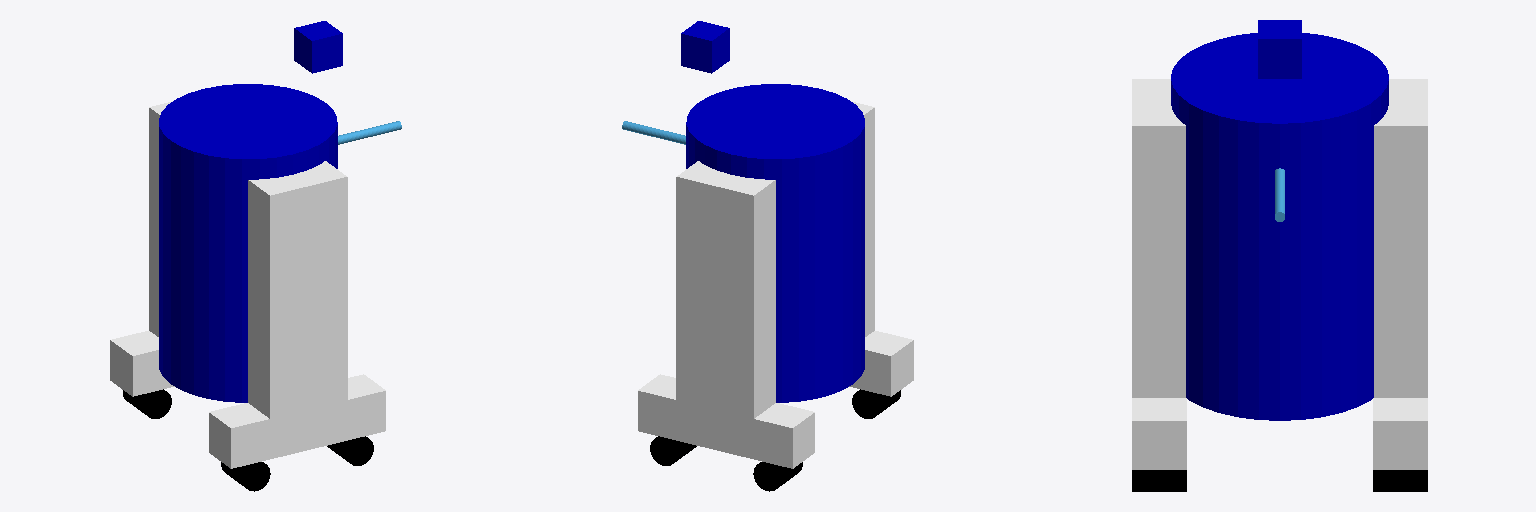
robot.urdf — withcolors:
<?xml version="1.0"?>
<robot name="withcolors">

  <link name="base_link">
    <visual>
      <geometry>
        <cylinder length="0.6" radius="0.2"/>
      </geometry>
      <material name="blue"/>
    </visual>
  </link>

  <link name="right_leg">
    <visual>
      <geometry>
        <box size="0.6 0.1 0.2"/>
      </geometry>
      <origin rpy="0 1.57075 0" xyz="0 0 -0.3"/>
      <material name="white"/>
    </visual>
  </link>

  <joint name="base_to_right_leg" type="fixed">
    <parent link="base_link"/>
    <child link="right_leg"/>
    <origin xyz="0 -0.22 0.25"/>
  </joint>

  <link name="right_base">
    <visual>
      <geometry>
        <box size="0.4 0.1 0.1"/>
      </geometry>
      <material name="white"/>
    </visual>
  </link>

  <joint name="right_base_joint" type="fixed">
    <parent link="right_leg"/>
    <child link="right_base"/>
    <origin xyz="0 0 -0.6"/>
  </joint>

  <link name="right_front_wheel">
    <visual>
      <origin rpy="1.57075 0 0" xyz="0 0 0"/>
      <geometry>
        <cylinder length="0.1" radius="0.035"/>
      </geometry>
      <material name="black"/>
    </visual>
  </link>
  <joint name="right_front_wheel_joint" type="continuous">
    <axis rpy="0 0 0" xyz="0 1 0"/>
    <parent link="right_base"/>
    <child link="right_front_wheel"/>
    <origin rpy="0 0 0" xyz="0.133333333333 0 -0.085"/>
  </joint>

  <link name="right_back_wheel">
    <visual>
      <origin rpy="1.57075 0 0" xyz="0 0 0"/>
      <geometry>
        <cylinder length="0.1" radius="0.035"/>
      </geometry>
      <material name="black"/>
    </visual>
  </link>
  <joint name="right_back_wheel_joint" type="continuous">
    <axis rpy="0 0 0" xyz="0 1 0"/>
    <parent link="right_base"/>
    <child link="right_back_wheel"/>
    <origin rpy="0 0 0" xyz="-0.133333333333 0 -0.085"/>
  </joint>

  <link name="left_leg">
    <visual>
      <geometry>
        <box size="0.6 0.1 0.2"/>
      </geometry>
      <origin rpy="0 1.57075 0" xyz="0 0 -0.3"/>
      <material name="white"/>
    </visual>
  </link>

  <joint name="base_to_left_leg" type="fixed">
    <parent link="base_link"/>
    <child link="left_leg"/>
    <origin xyz="0 0.22 0.25"/>
  </joint>

  <link name="left_base">
    <visual>
      <geometry>
        <box size="0.4 0.1 0.1"/>
      </geometry>
      <material name="white"/>
    </visual>
  </link>

  <joint name="left_base_joint" type="fixed">
    <parent link="left_leg"/>
    <child link="left_base"/>
    <origin xyz="0 0 -0.6"/>
  </joint>

  <link name="left_front_wheel">
    <visual>
      <origin rpy="1.57075 0 0" xyz="0 0 0"/>
      <geometry>
        <cylinder length="0.1" radius="0.035"/>
      </geometry>
      <material name="black"/>
    </visual>
  </link>

  <joint name="left_front_wheel_joint" type="continuous">
    <axis rpy="0 0 0" xyz="0 1 0"/>
    <parent link="left_base"/>
    <child link="left_front_wheel"/>
    <origin rpy="0 0 0" xyz="0.133333333333 0 -0.085"/>
  </joint>

  <link name="left_back_wheel">
    <visual>
      <origin rpy="1.57075 0 0" xyz="0 0 0"/>
      <geometry>
        <cylinder length="0.1" radius="0.035"/>
      </geometry>
      <material name="black"/>
    </visual>
  </link>
  <joint name="left_back_wheel_joint" type="continuous">
    <axis rpy="0 0 0" xyz="0 1 0"/>
    <parent link="left_base"/>
    <child link="left_back_wheel"/>
    <origin rpy="0 0 0" xyz="-0.133333333333 0 -0.085"/>
  </joint>

  <joint name="gripper_extension" type="prismatic">
    <parent link="base_link"/>
    <child link="gripper_pole"/>
    <limit effort="1000.0" lower="-0.38" upper="0" velocity="0.5"/>
    <origin rpy="0 0 0" xyz="0.19 0 0.2"/>
  </joint>

  <link name="gripper_pole">
    <visual>
      <geometry>
        <cylinder length="0.2" radius="0.01"/>
      </geometry>
      <origin rpy="0 1.57075 0 " xyz="0.1 0 0"/>
    </visual>
  </link>

  <link name="head">
    <visual>
      <geometry>
        <capsule radius="0.2" length="0.3" />
        <!-- <sphere radius="0.2"/> -->
      </geometry>
      <material name="white"/>
    </visual>
  </link>
  <joint name="head_swivel" type="continuous">
    <parent link="base_link"/>
    <child link="head"/>
    <axis xyz="0 0 1"/>
    <origin xyz="0 0 0.3"/>
  </joint>

  <link name="box">
    <visual>
      <geometry>
        <box size="0.08 0.08 0.08"/>
      </geometry>
      <material name="blue"/>
    </visual>
  </link>

  <joint name="tobox" type="fixed">
    <parent link="head"/>
    <child link="box"/>
    <origin xyz="0.1814 0 0.1414"/>
  </joint>

  <material name="blue">
    <color rgba="0 0 0.8 1"/>
  </material>
  <material name="black">
    <color rgba="0 0 0 1"/>
  </material>
  <material name="white">
    <color rgba="1 1 1 1"/>
  </material>

</robot>

--- Facts derived from the render (not from the file) ---
3 views of the same robot in one strip: view 1: azimuth 30°, elevation 25°; view 2: azimuth 150°, elevation 25°; view 3: azimuth 270°, elevation 25° (orthographic).
Model withcolors with 12 links and 11 joints (5 continuous, 1 prismatic, 5 fixed), rooted at base_link, posed all joints at 0.
Links seen in each view (by area): view 1: base_link, right_leg, right_base, left_base, left_leg, box, right_back_wheel, left_back_wheel, right_front_wheel, gripper_pole; view 2: base_link, left_leg, left_base, right_base, right_leg, box, left_back_wheel, right_back_wheel, left_front_wheel, gripper_pole; view 3: base_link, right_leg, left_leg, right_base, left_base, box, right_front_wheel, left_front_wheel.
Boxes of the visible links, x1,y1,x2,y2 form: base_link: (159,84,337,402); right_leg: (248,161,347,438); right_base: (209,374,385,468); left_base: (110,331,174,396); left_leg: (149,101,172,336); box: (294,21,342,73); right_back_wheel: (221,462,270,491); left_back_wheel: (123,389,171,418); right_front_wheel: (327,436,373,465); gripper_pole: (338,121,401,144); base_link: (686,84,864,402); left_leg: (676,161,775,438); left_base: (638,374,814,468); right_base: (849,331,913,396); right_leg: (851,101,874,336); box: (681,21,729,73); left_back_wheel: (753,462,802,491); right_back_wheel: (852,389,900,418); left_front_wheel: (650,436,696,465); gripper_pole: (622,121,685,144); base_link: (1171,33,1388,420); right_leg: (1132,79,1185,397); left_leg: (1374,79,1427,397); right_base: (1132,398,1186,469); left_base: (1373,398,1427,469); box: (1258,20,1301,78); right_front_wheel: (1132,470,1186,491); left_front_wheel: (1373,470,1427,491).
Bounding box of the posed robot: 0.59 × 0.54 × 0.9514 m (x, y, z).
Geometry: primitives only (box / cylinder / sphere), no mesh files.